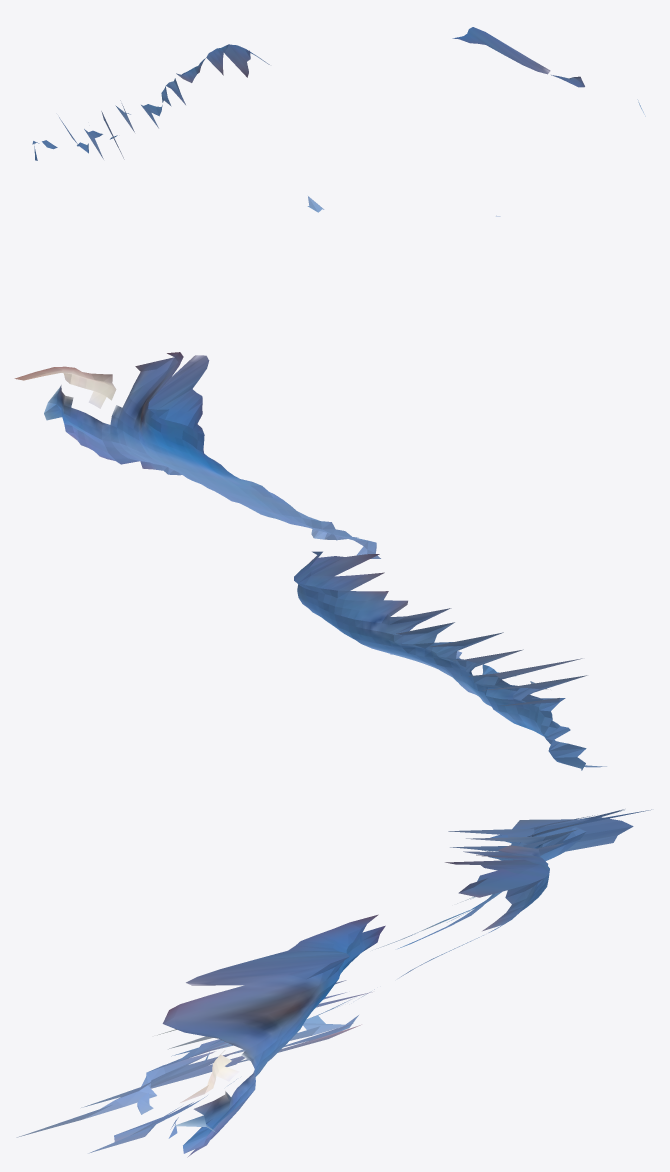
The model's file is observed-surface.glb.
3 views of the same model, one above another, from view 1: azimuth 30°, elevation 25°; view 2: azimuth 150°, elevation 25°; view 3: azimuth 270°, elevation 25° (orthographic). The views are drawn at different scales.
Visible parts, largest first — view 1: geometry_0; view 2: geometry_0; view 3: geometry_0.
Part boxes in pixels (box(x1,y1,x2,y2)): geometry_0: box(32, 27, 645, 216); geometry_0: box(14, 352, 606, 770); geometry_0: box(16, 809, 651, 1157).
Size of the model in its own units: 0.6476 by 0.2402 by 0.5099.
1 material, 1 textured.
